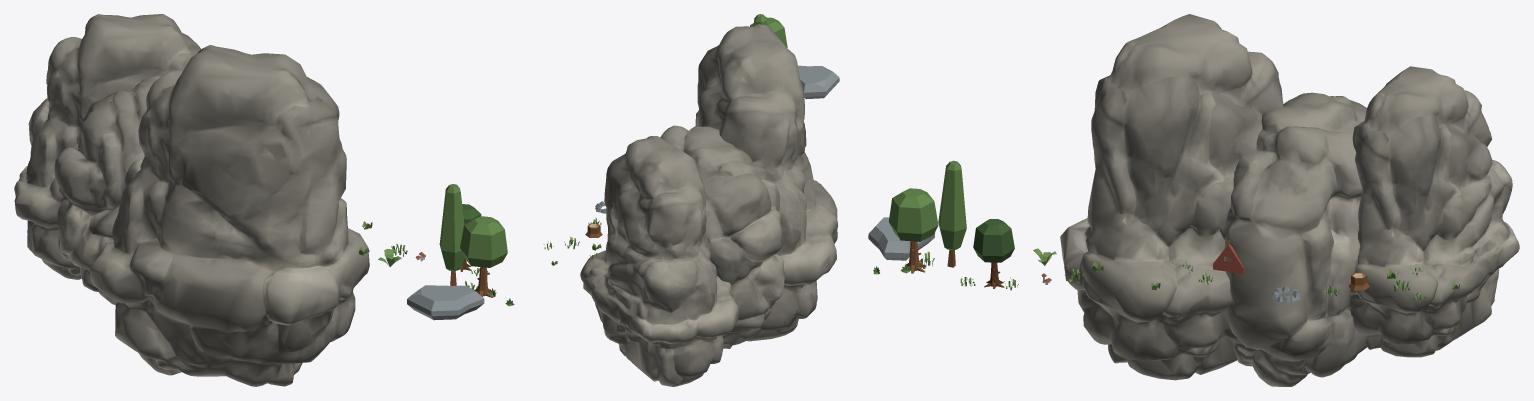
The model's file is cell_x-4_z0_render.gltf.
The picture shows the model from 3 angles, left to right: view 1: azimuth 30°, elevation 25°; view 2: azimuth 150°, elevation 25°; view 3: azimuth 270°, elevation 25°; orthographic projection. The views are drawn at different scales.
Parts seen in each view (by area): view 1: cell_x-4_z0; view 2: cell_x-4_z0; view 3: cell_x-4_z0.
Boxes of the visible parts, x1=… form: cell_x-4_z0: x1=14, y1=14, x2=514, y2=386; cell_x-4_z0: x1=543, y1=14, x2=839, y2=386; cell_x-4_z0: x1=868, y1=14, x2=1519, y2=386.
Size of the model in its own units: 21.47 by 25.37 by 44.44.
Materials: 13 (1 with a texture image).
